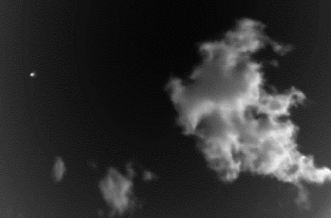Target: (31, 74, 35, 76)
